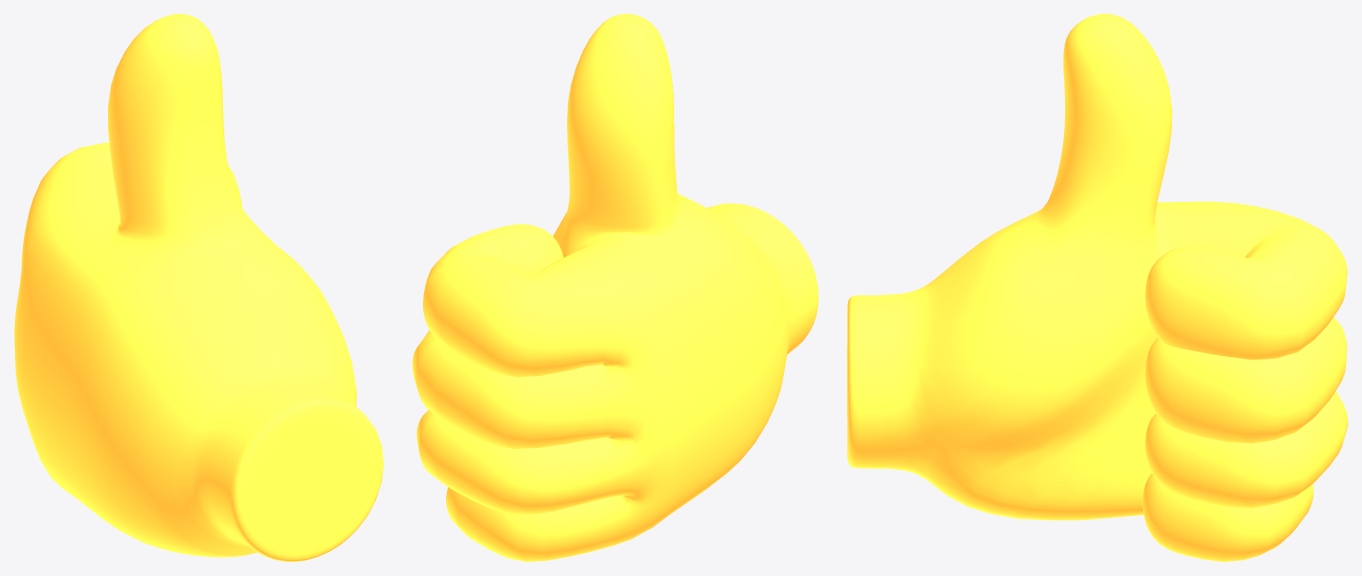
Rendered from HandGood.glb.
3 renders of one model, left to right at view 1: azimuth 30°, elevation 25°; view 2: azimuth 150°, elevation 25°; view 3: azimuth 270°, elevation 25°, orthographic. The views are drawn at different scales.
Visible parts, largest first — view 1: S_Like_L; view 2: S_Like_L; view 3: S_Like_L.
Part boxes in pixels (box(x1,y1,x2,y2)): S_Like_L: box(14, 14, 383, 561); S_Like_L: box(412, 14, 818, 561); S_Like_L: box(847, 14, 1347, 561).
Size of the model in its own units: 0.2089 by 0.4083 by 0.3681.
